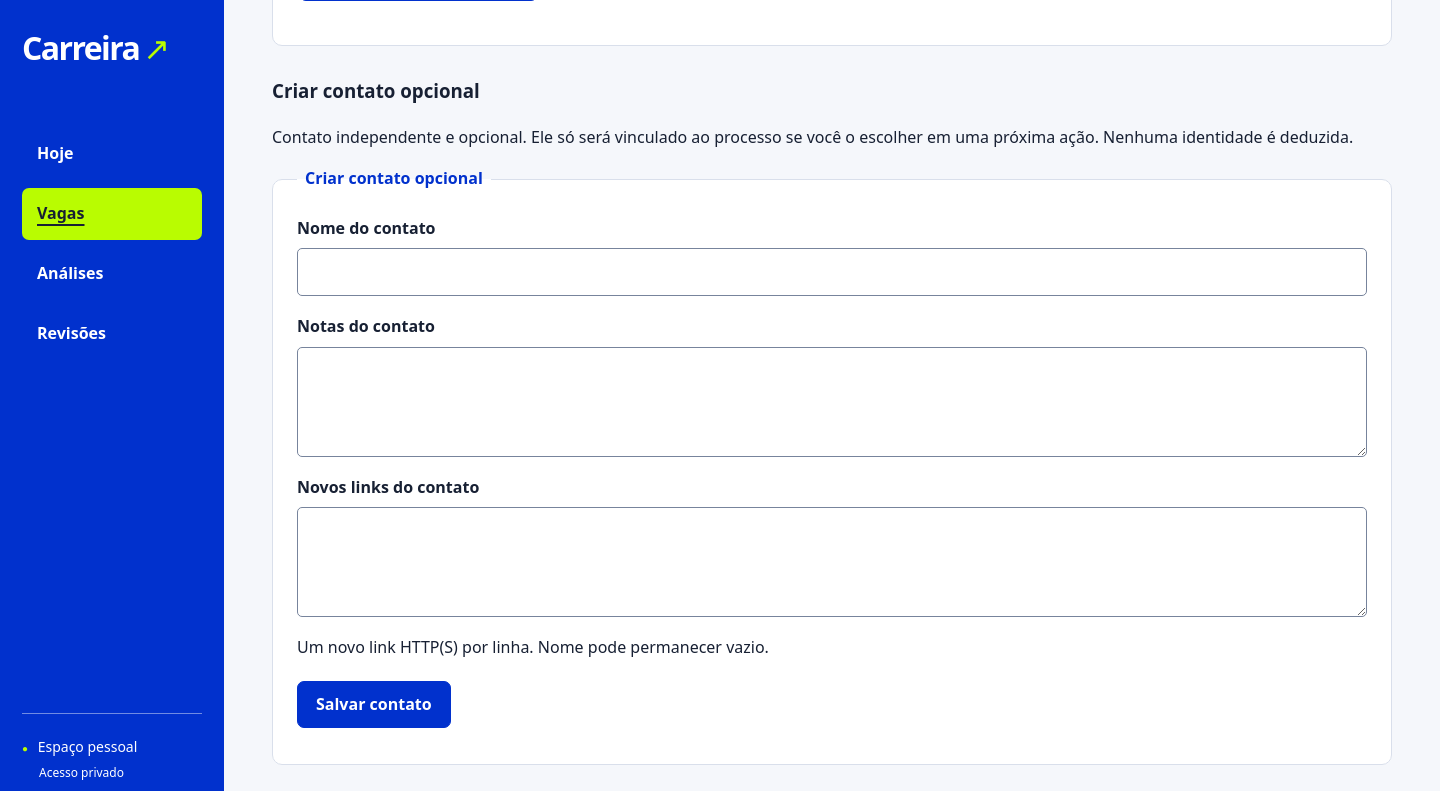
Test: keeps received HTTP 503 contact failure frozen for exact replay rather than editable revision
(page scrolled)
Type "Intenção com resposta incerta." into the text box labelled "Notas do contato".
click(832, 402); type("Intenção com resposta incerta.")  # box [297,347,1367,457]
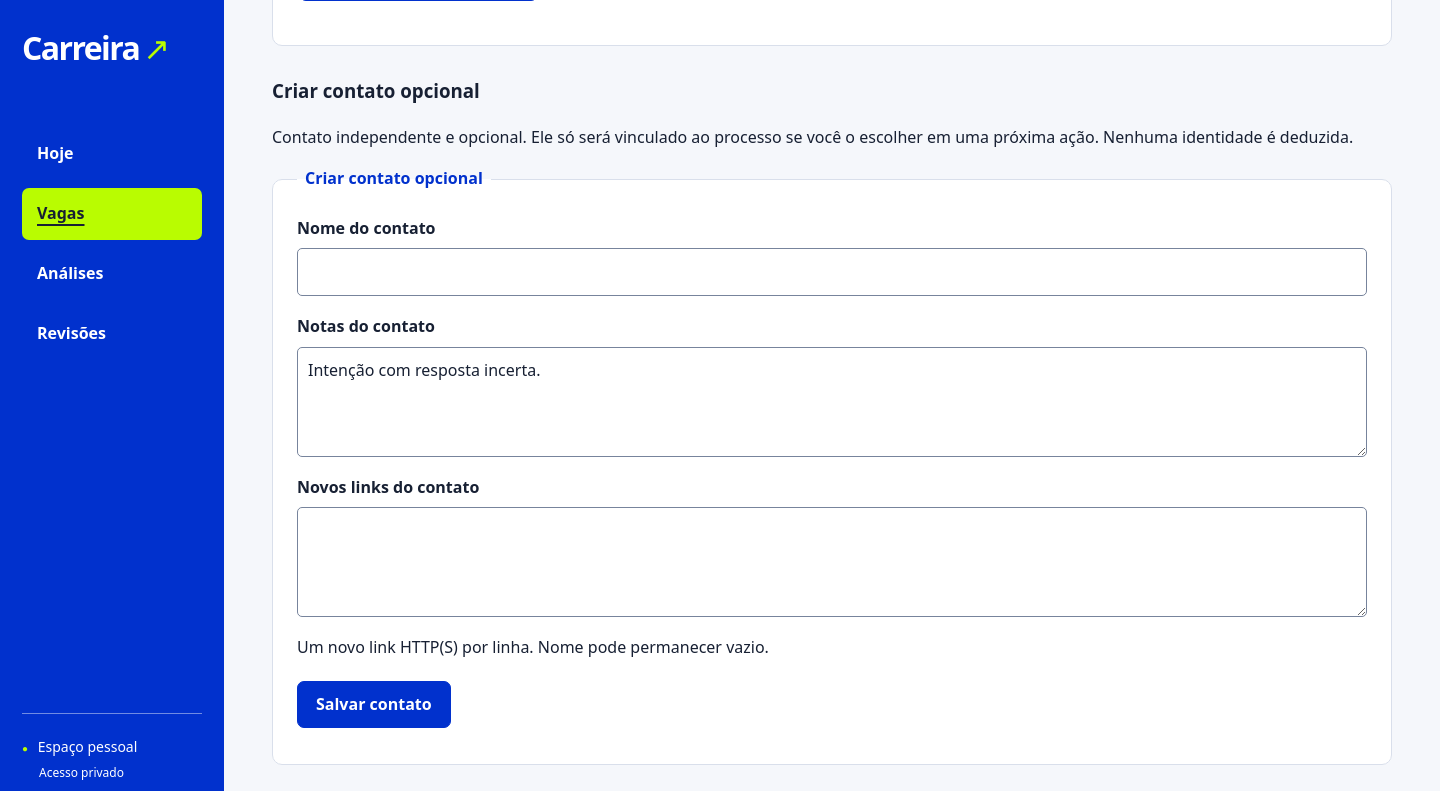
Click the button "Salvar contato".
click(374, 705)  # box [297,681,451,728]
(page scrolled)
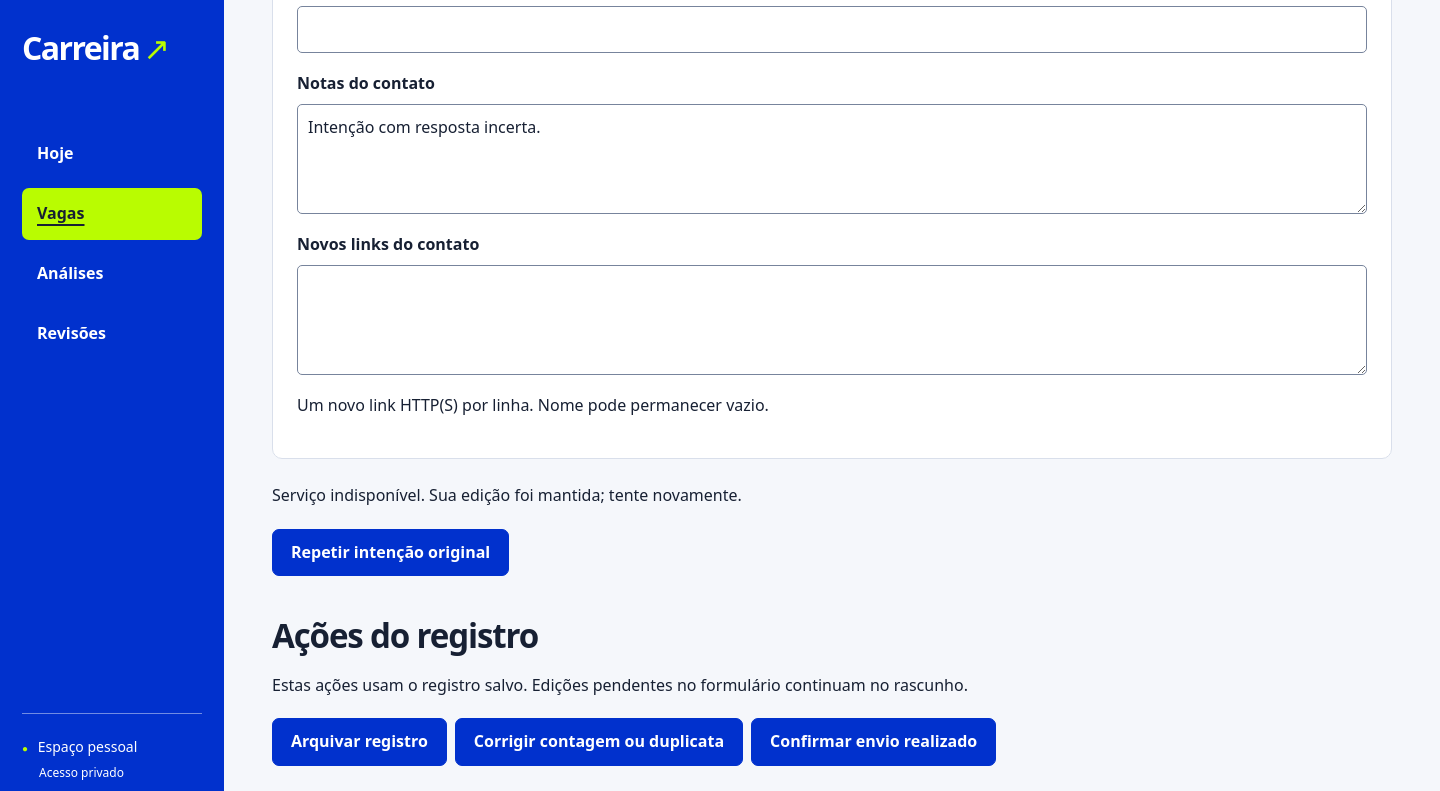
Expected: the text box labelled "Notas do contato" is disabled, [297,104,1367,214]
Expected: the button "Repetir intenção original" is shown
Click the button "Repetir intenção original".
click(391, 553)  # box [272,529,509,576]
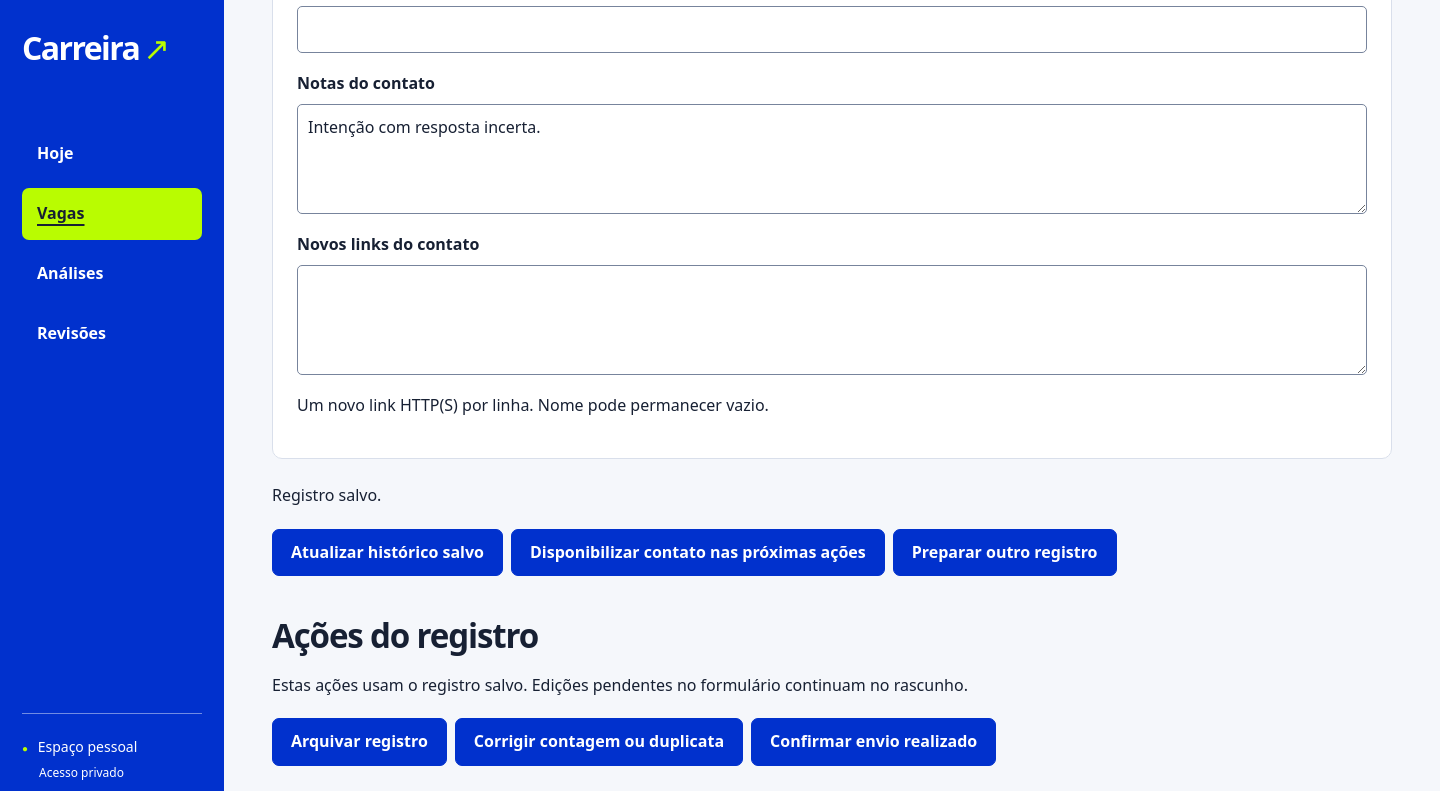
Expected: the text "Registro salvo." is shown, [272,484,381,506]
